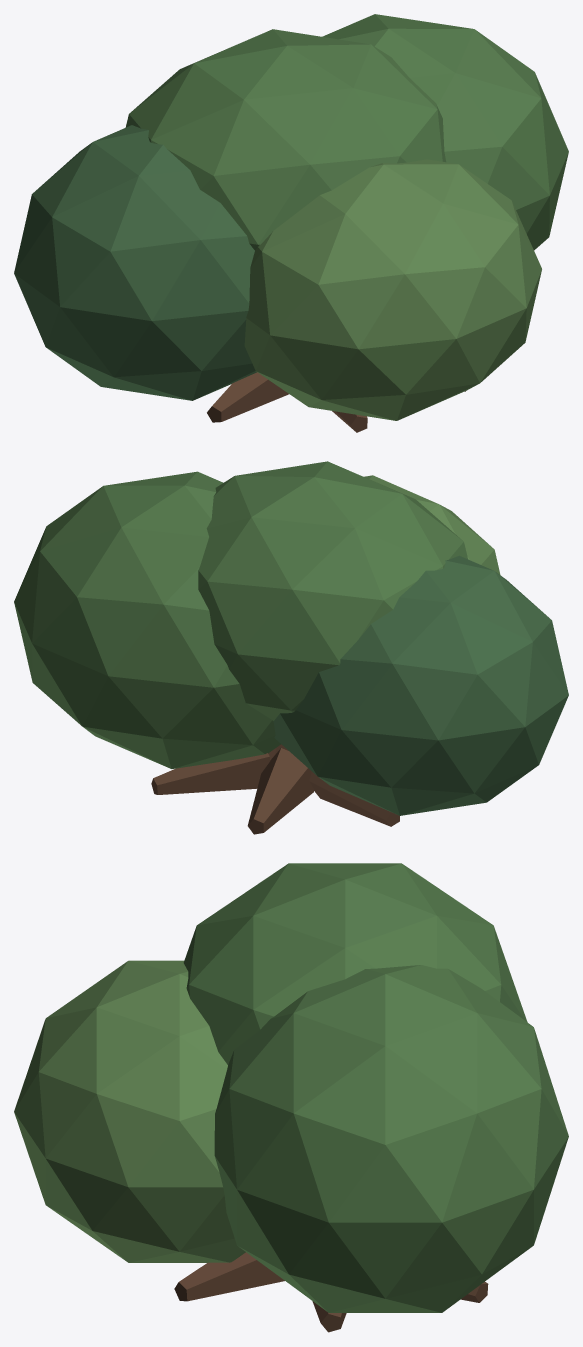
The model's file is xingyin-environment-v2__nature__bush_large.glb.
3 views of the same model, one above another, from view 1: azimuth 30°, elevation 25°; view 2: azimuth 150°, elevation 25°; view 3: azimuth 270°, elevation 25° (orthographic). The views are drawn at different scales.
Parts seen in each view (by area): view 1: bush_large; view 2: bush_large; view 3: bush_large.
Boxes of the visible parts, box(x1,y1,x2,y2) form: bush_large: box(14, 14, 568, 432); bush_large: box(14, 461, 568, 834); bush_large: box(14, 863, 568, 1332).
Size of the model in its own units: 1.53 by 0.926 by 1.24.
